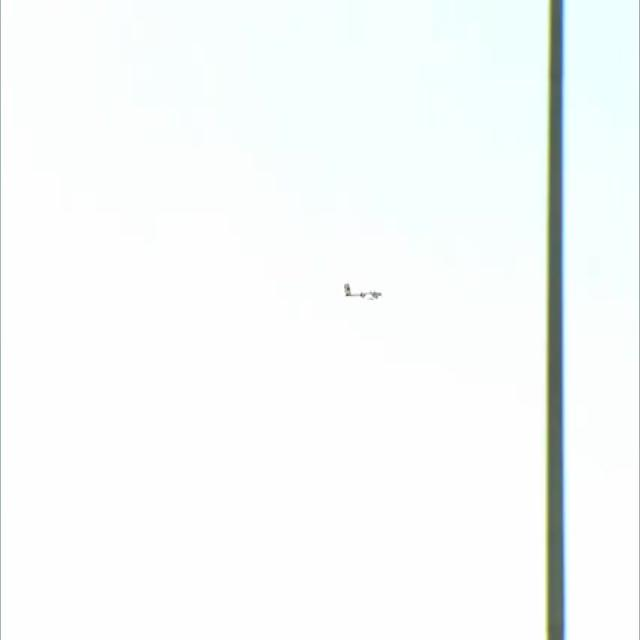iha: (343, 281, 384, 304)
